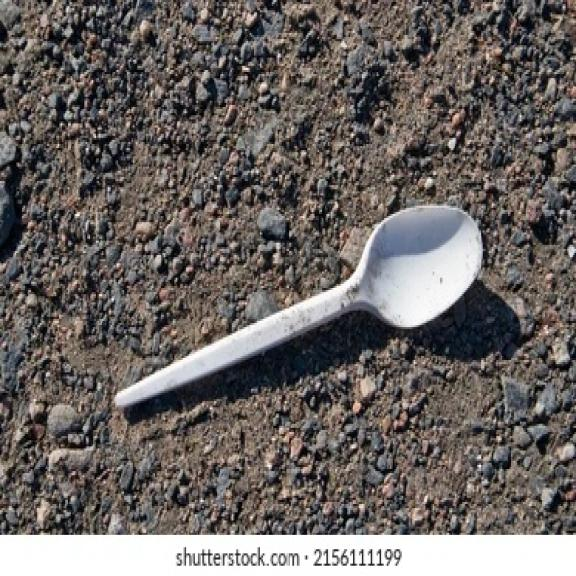Plastik: (116, 206, 481, 407)
